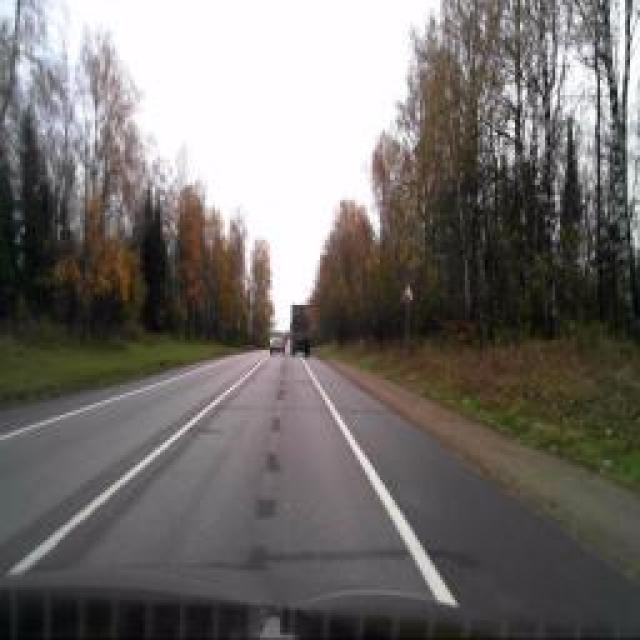sign: (401, 282, 414, 302)
